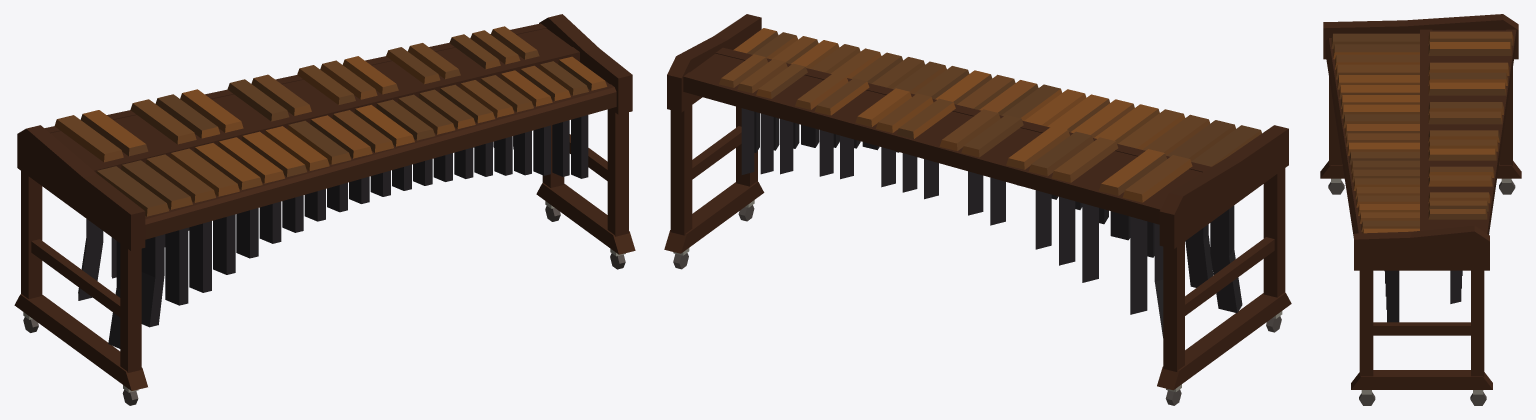
File: marimba-70965b.glb
3 views of the same model, side by side, from view 1: azimuth 30°, elevation 25°; view 2: azimuth 150°, elevation 25°; view 3: azimuth 270°, elevation 25° (orthographic). The views are drawn at different scales.
Visible parts, largest first — view 1: marimba-body, marimba-resonators; view 2: marimba-body, marimba-resonators; view 3: marimba-body, marimba-resonators.
Boxes of the visible parts, x1,y1,x2,y2 form: marimba-body: [14, 14, 635, 390]; marimba-resonators: [78, 115, 588, 348]; marimba-body: [664, 14, 1291, 390]; marimba-resonators: [741, 108, 1242, 337]; marimba-body: [1320, 14, 1521, 389]; marimba-resonators: [1384, 270, 1462, 322].
Bounding box in the file's own units: 2.52 × 0.95 × 0.983.
